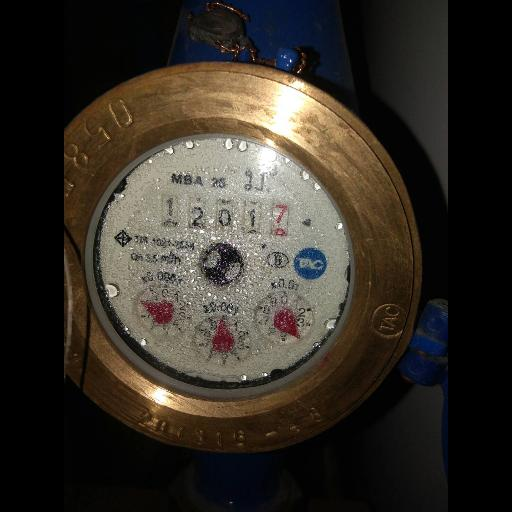0: (217, 199, 234, 233)
1: (162, 195, 179, 228), (244, 201, 260, 234)
2: (189, 196, 206, 229)
7: (272, 204, 289, 237)
border_water_meter_number: (155, 191, 297, 243)
